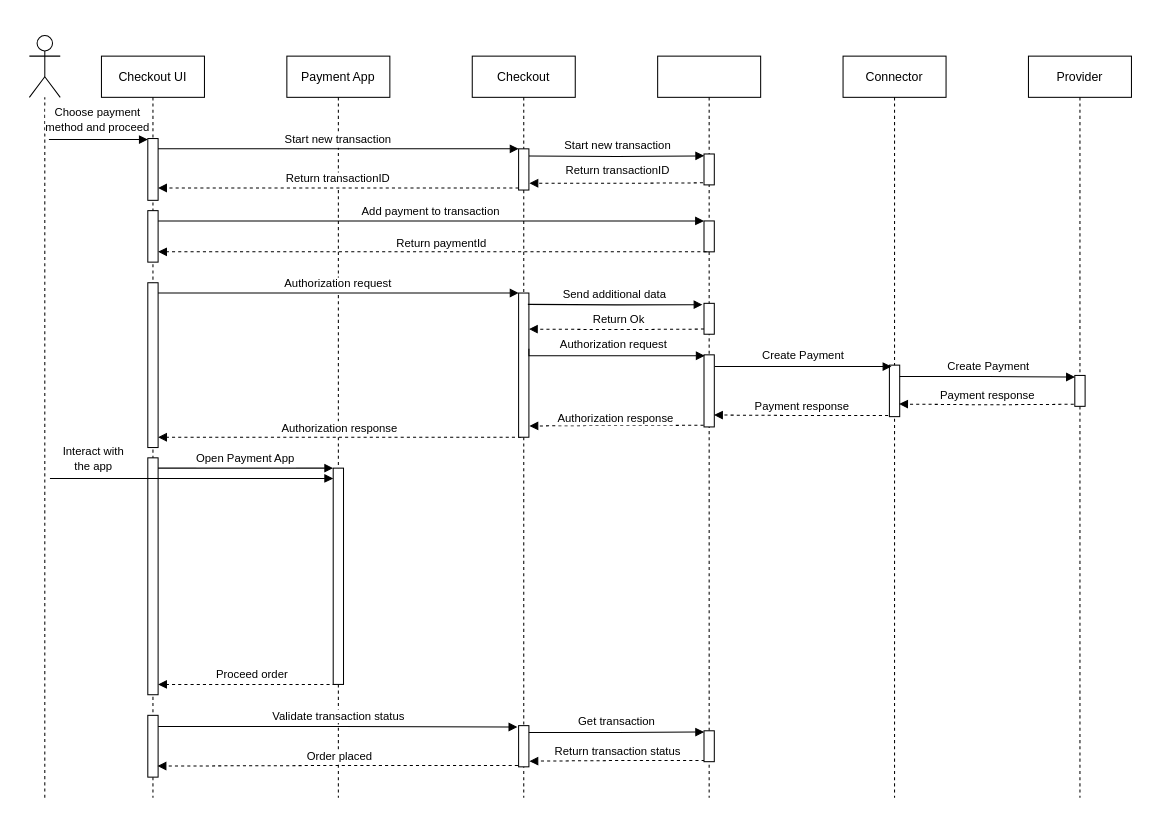
Image size: 1149x817. Some labels were removed from this diagram. Here are the shapes that lost their labels. From the top down, the centre of each, then its label:
the point at 44,66: Customer
the point at 709,426: Gateway
